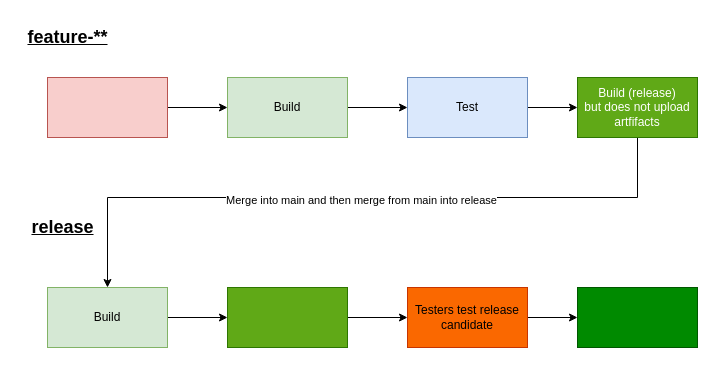
Image size: 715x365. Some labels were removed from this diagram. The centre of each missing label's shape, as x and y in pixels:
"Build (release) upload artifacts" belongs at [287,317].
"Code" belongs at [107,107].
"Release on Github" belongs at [637,317].
